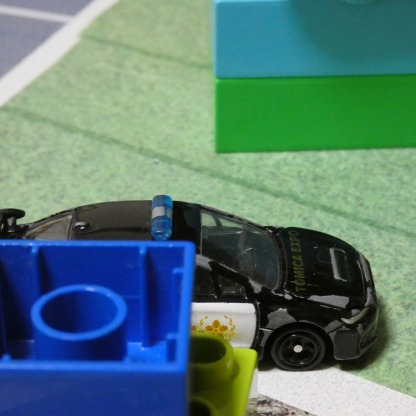car: (0, 202, 379, 374)
